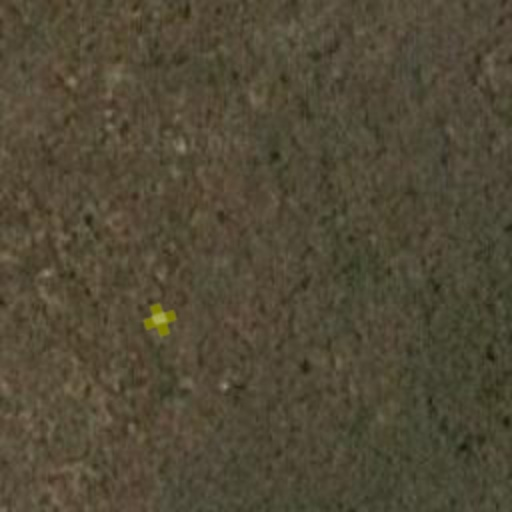cross: (138, 298, 182, 342)
